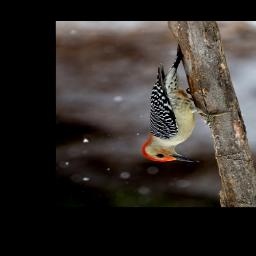Woodpecker: (142, 45, 231, 163)
